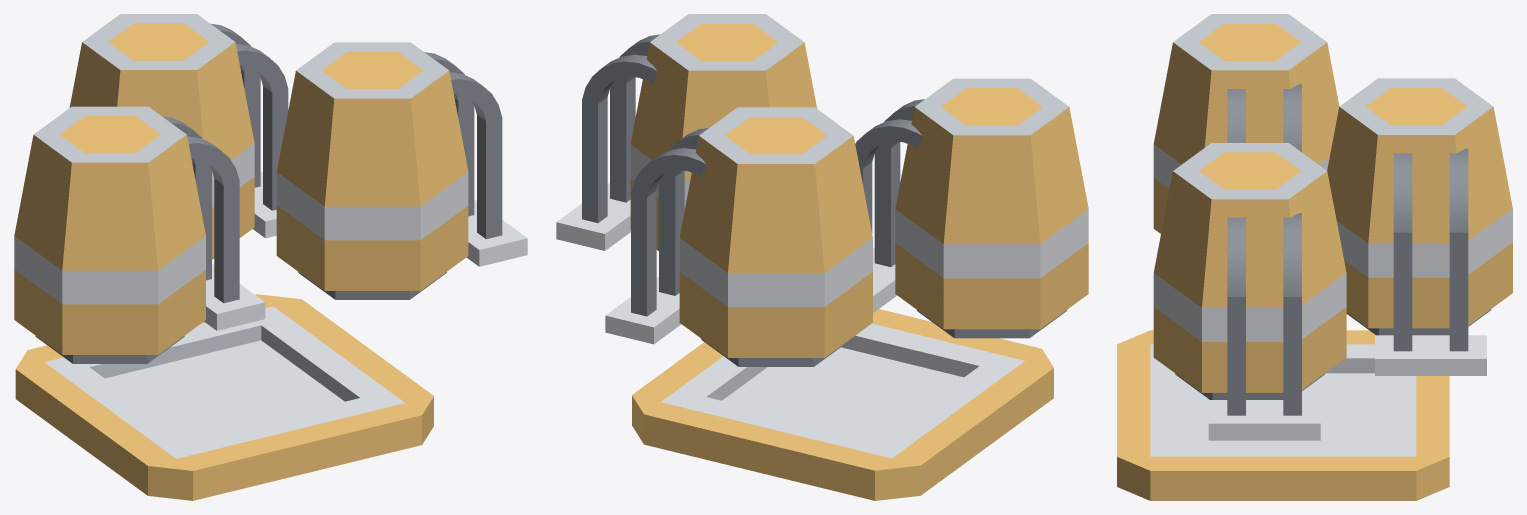
Rendered from building_storage_silo.glb.
The picture shows the model from 3 angles, left to right: view 1: azimuth 30°, elevation 25°; view 2: azimuth 150°, elevation 25°; view 3: azimuth 270°, elevation 25°; orthographic projection.
Visible parts, largest first — view 1: platform_small, machine_barrel.002, machine_barrel.001, machine_barrel.003, cables.002, cables.001, cables.003; view 2: platform_small, machine_barrel.001, machine_barrel.003, machine_barrel.002, cables.003, cables.002, cables.001; view 3: platform_small, machine_barrel.002, machine_barrel.003, machine_barrel.001, cables.003, cables.002, cables.001.
Part boxes in pixels (x1,y1,x2,y2): platform_small: (15, 294, 433, 500); machine_barrel.002: (276, 42, 468, 299); machine_barrel.001: (14, 106, 205, 363); machine_barrel.003: (69, 14, 254, 259); cables.002: (424, 52, 527, 266); cables.001: (162, 116, 265, 330); cables.003: (211, 23, 288, 238); platform_small: (632, 309, 1053, 500); machine_barrel.001: (895, 78, 1088, 338); machine_barrel.003: (679, 107, 872, 366); machine_barrel.002: (630, 14, 817, 250); cables.003: (605, 127, 709, 344); cables.002: (556, 34, 660, 250); cables.001: (855, 99, 924, 312); platform_small: (1117, 330, 1449, 500); machine_barrel.002: (1153, 143, 1346, 399); machine_barrel.003: (1327, 78, 1512, 335); machine_barrel.001: (1153, 14, 1339, 233); cables.003: (1375, 148, 1486, 375); cables.002: (1208, 213, 1320, 440); cables.001: (1227, 84, 1301, 152).
Size of the model in its own units: 2.5 by 1.64 by 1.82.
